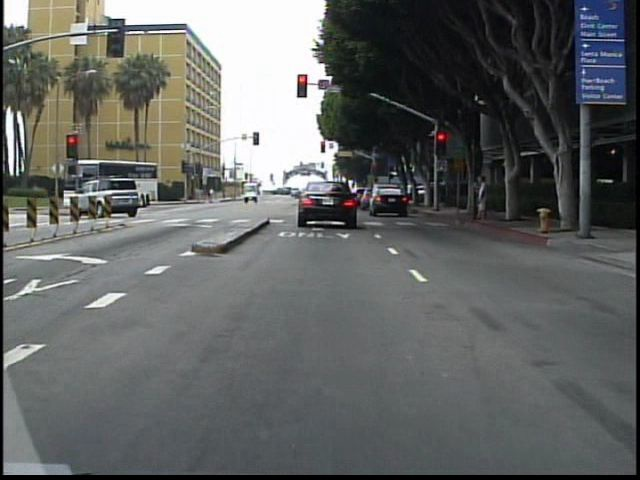person: (471, 169, 491, 222)
